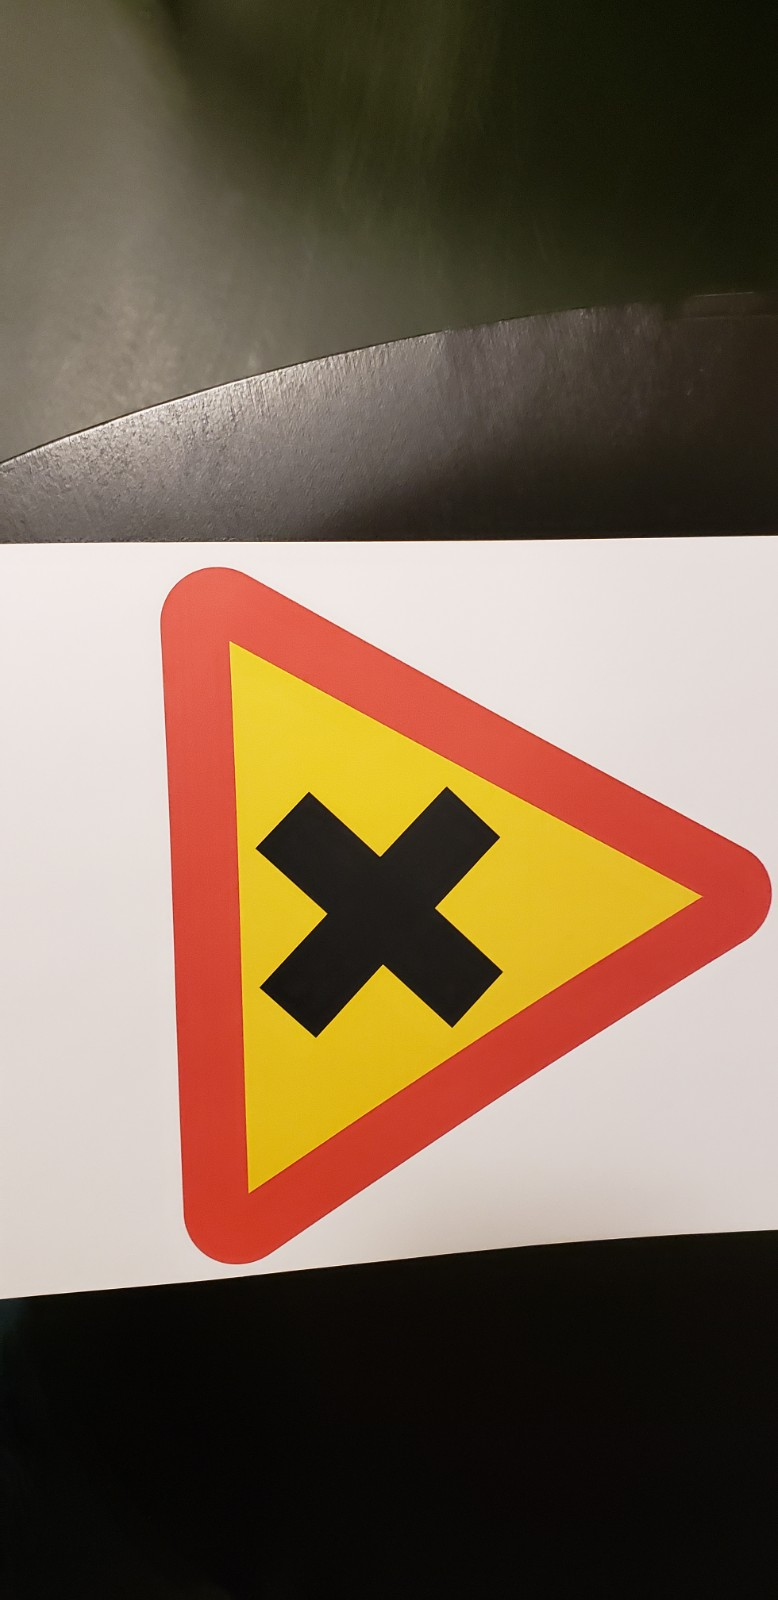junction: (110, 547, 772, 1289)
